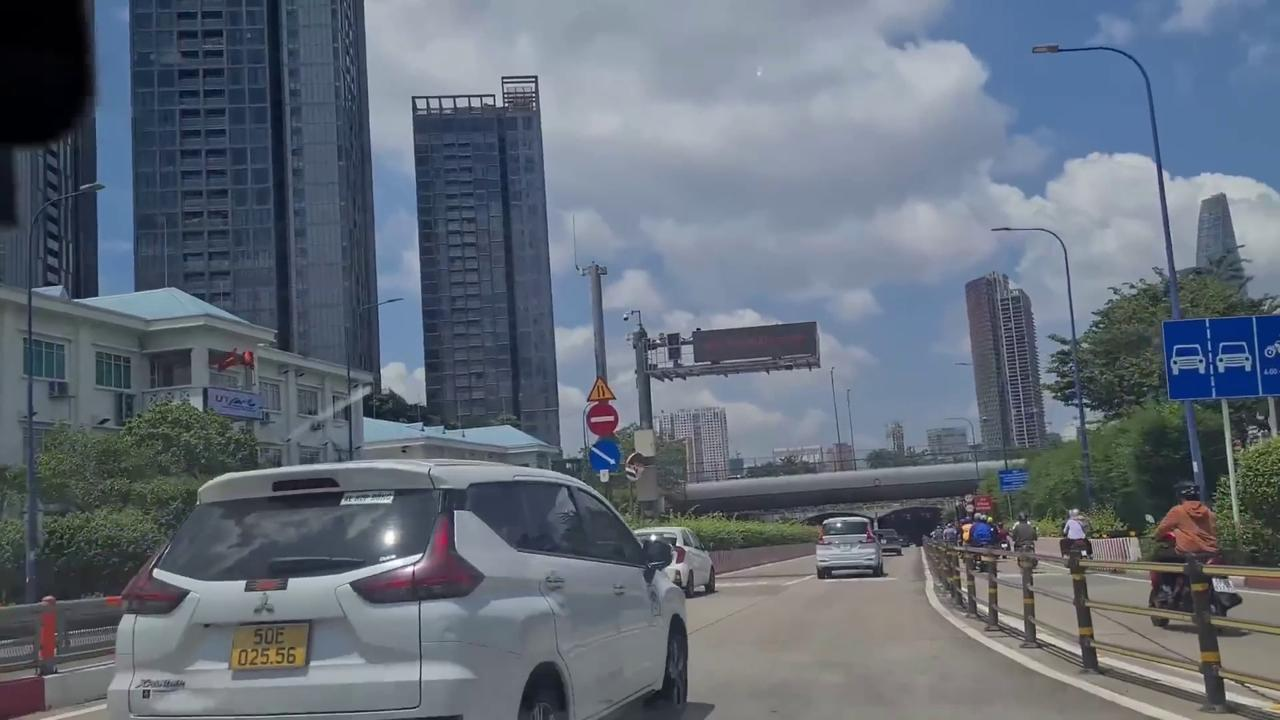Cấm đi ngược chiều: (585, 403, 620, 437)
Hướng phải đi vòng sang phải: (588, 437, 622, 472)
Làn đường cho từng xe: (1159, 311, 1280, 402)
Đuờng hẹp: (583, 375, 618, 403)
